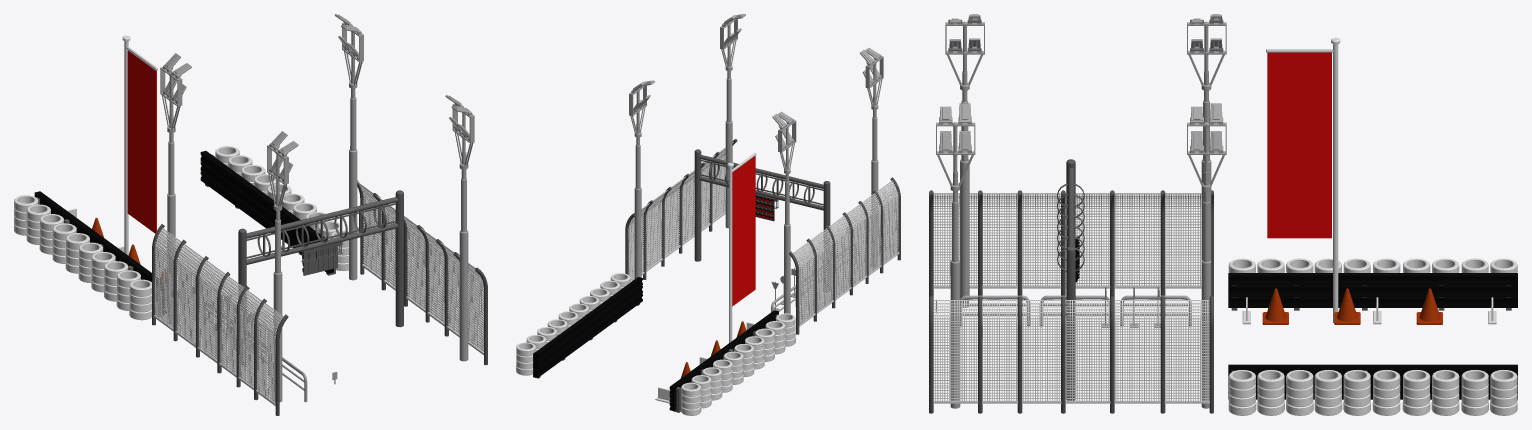
Rendered from props_avec_terrain_circuit.fbx.
The picture shows the model from 3 angles, left to right: view 1: azimuth 30°, elevation 25°; view 2: azimuth 150°, elevation 25°; view 3: azimuth 270°, elevation 25°; orthographic projection. The views are drawn at different scales.
Visible parts, largest first — view 1: grillage_02, grillage_01, par_chok_02, depart_light, drapeau, garde_boue_01, par_chok_01, poto_light4, poto_light3, poto_light1, poto_light2, garde_boue_02; view 2: grillage_02, grillage_01, par_chok_02, drapeau, depart_light, garde_boue_01, par_chok_01, poto_light2, poto_light3, poto_light1, poto_light4, garde_boue_02; view 3: grillage_01, grillage_02, drapeau, par_chok_01, garde_boue_02, poto_light4, par_chok_02, poto_light3, depart_light, poto_light1, garde_boue_01, poto_light2 (+6 smaller).
Part boxes in pixels (bbox=[...]): grillage_02: bbox=[152, 224, 288, 415]; grillage_01: bbox=[357, 180, 487, 365]; par_chok_02: bbox=[14, 195, 151, 320]; depart_light: bbox=[238, 190, 403, 365]; drapeau: bbox=[122, 35, 157, 255]; garde_boue_01: bbox=[200, 151, 335, 275]; par_chok_01: bbox=[215, 146, 348, 270]; poto_light4: bbox=[445, 95, 474, 361]; poto_light3: bbox=[335, 14, 363, 280]; poto_light1: bbox=[267, 131, 298, 402]; poto_light2: bbox=[160, 53, 191, 323]; garde_boue_02: bbox=[34, 191, 166, 316]; grillage_02: bbox=[789, 177, 900, 334]; grillage_01: bbox=[625, 139, 737, 281]; par_chok_02: bbox=[681, 313, 795, 415]; drapeau: bbox=[727, 152, 756, 342]; depart_light: bbox=[694, 149, 830, 292]; garde_boue_01: bbox=[533, 277, 642, 378]; par_chok_01: bbox=[516, 273, 630, 375]; poto_light2: bbox=[772, 111, 796, 313]; poto_light3: bbox=[629, 80, 654, 278]; poto_light1: bbox=[860, 48, 883, 266]; poto_light4: bbox=[720, 14, 745, 228]; garde_boue_02: bbox=[669, 310, 778, 412]; grillage_01: bbox=[929, 296, 1213, 413]; grillage_02: bbox=[929, 190, 1213, 296]; drapeau: bbox=[1266, 37, 1340, 322]; par_chok_01: bbox=[1228, 370, 1517, 415]; garde_boue_02: bbox=[1228, 273, 1517, 310]; poto_light4: bbox=[936, 103, 975, 408]; par_chok_02: bbox=[1228, 258, 1517, 272]; poto_light3: bbox=[1187, 103, 1226, 408]; depart_light: bbox=[1057, 159, 1084, 400]; poto_light1: bbox=[945, 14, 984, 307]; garde_boue_01: bbox=[1228, 364, 1517, 399]; poto_light2: bbox=[1187, 14, 1226, 260].
Bounding box in the file's own units: 68.4 × 79.52 × 138.
